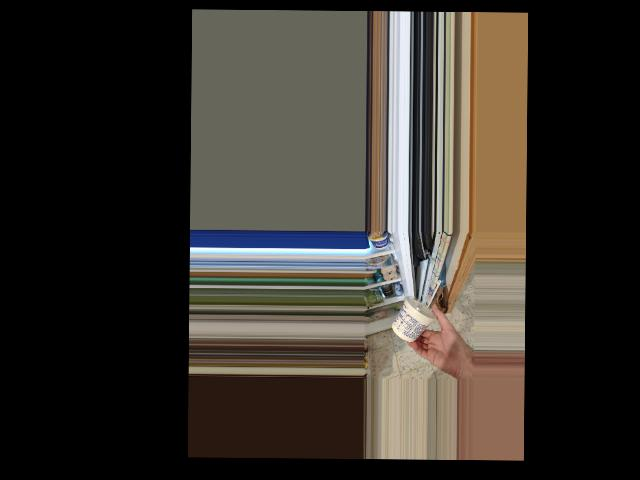cotage: (397, 293, 436, 344)
